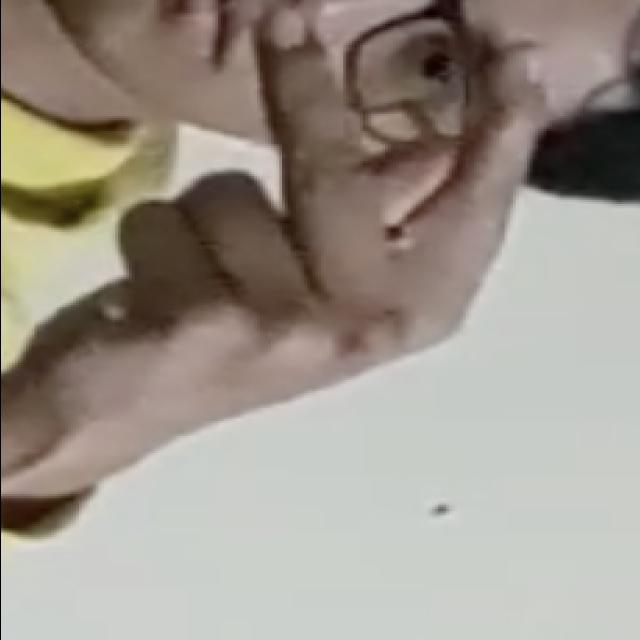K: (8, 3, 557, 489)
